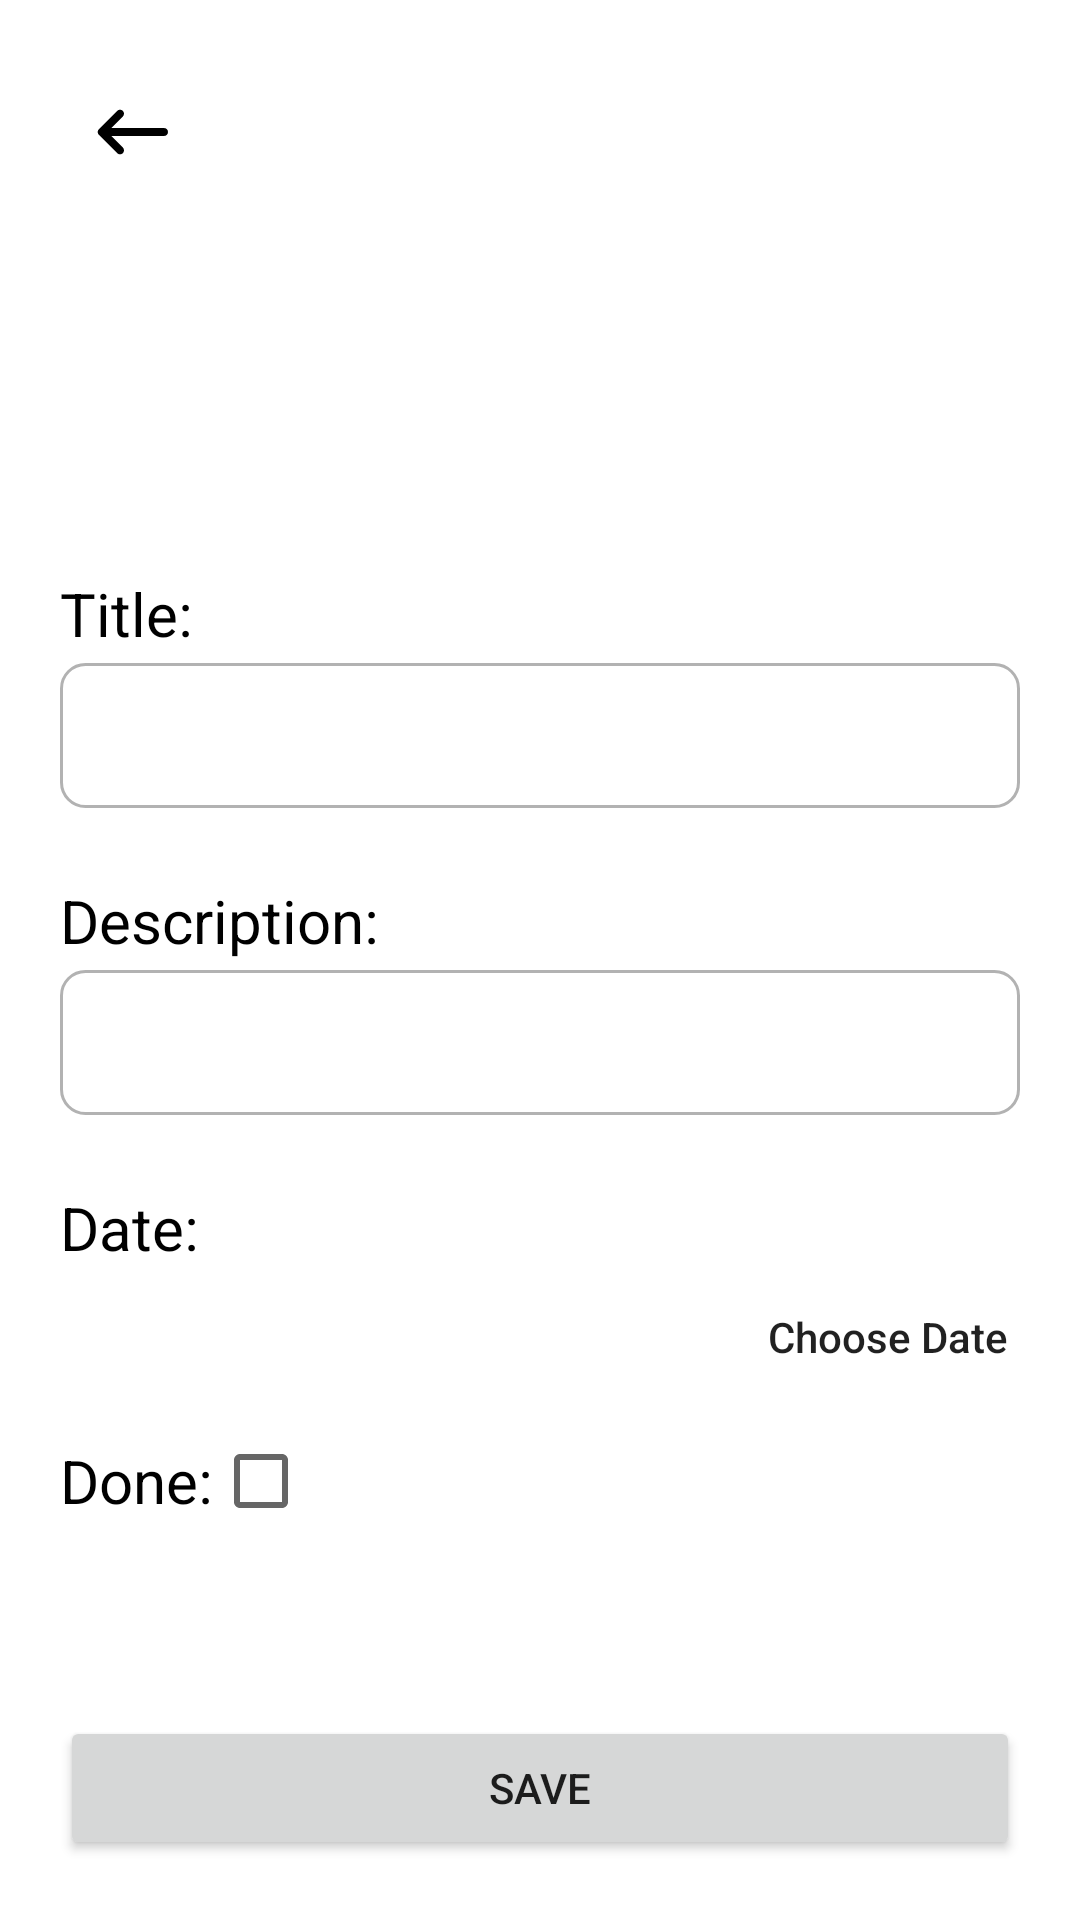

Locate icon controls on the screen. Image size 1080w x 1920h, boxes as (x1, y1, x2, y2).
keyboard backspace: (97, 109, 168, 155)
